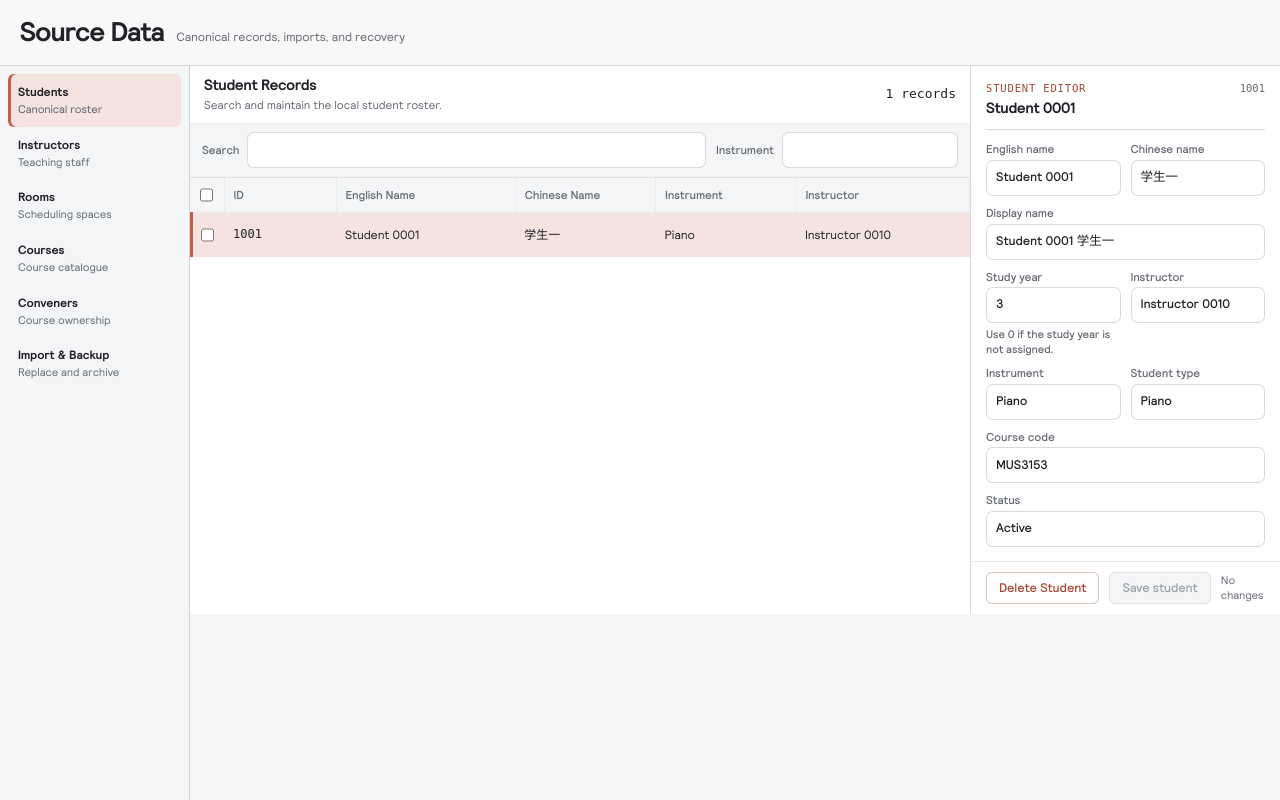
StudentHubPage › locks editor fields while a save is pending and restores the saved response
Step 1. Replace the text in the field labelled "Instructor" with "Instructor 0001" → coordinates (1198, 305), box [1130,287,1265,323]
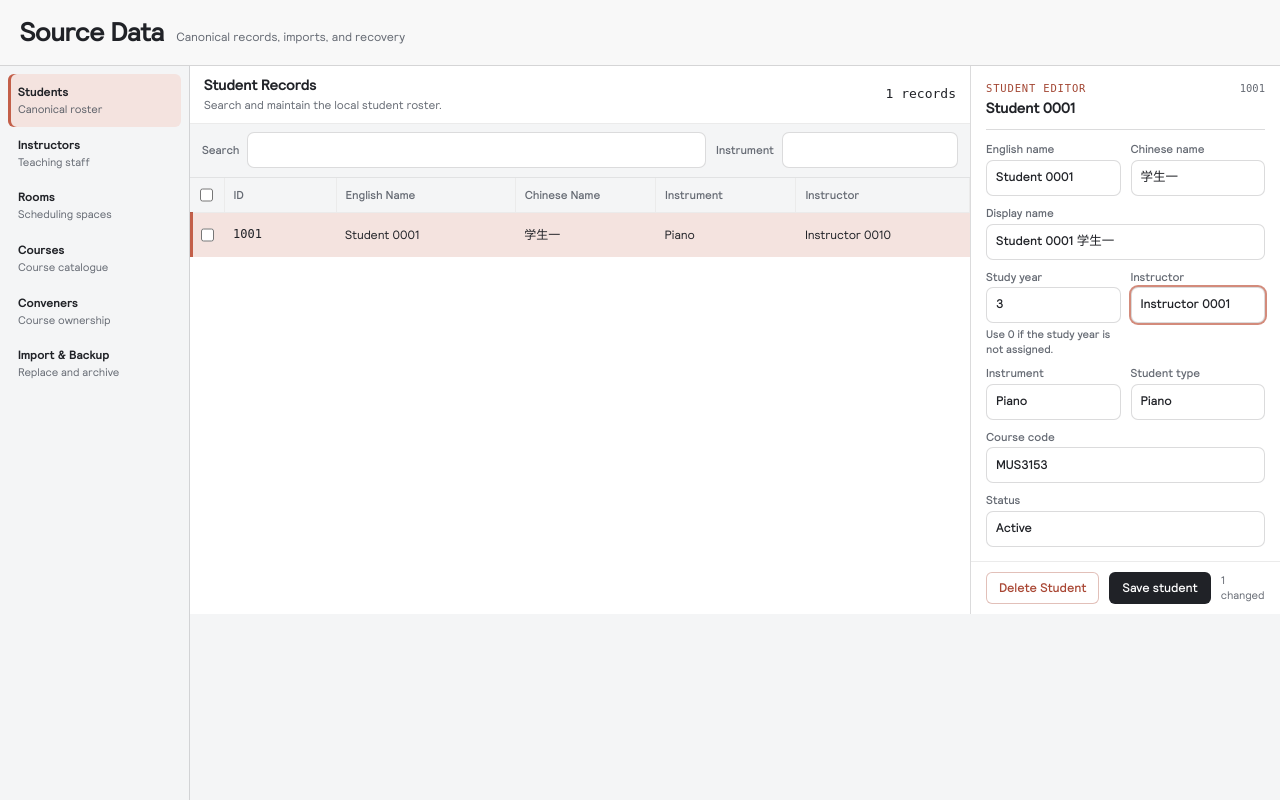
Step 2. Click the button "Save student" → coordinates (1160, 588), box [1110,572,1211,604]
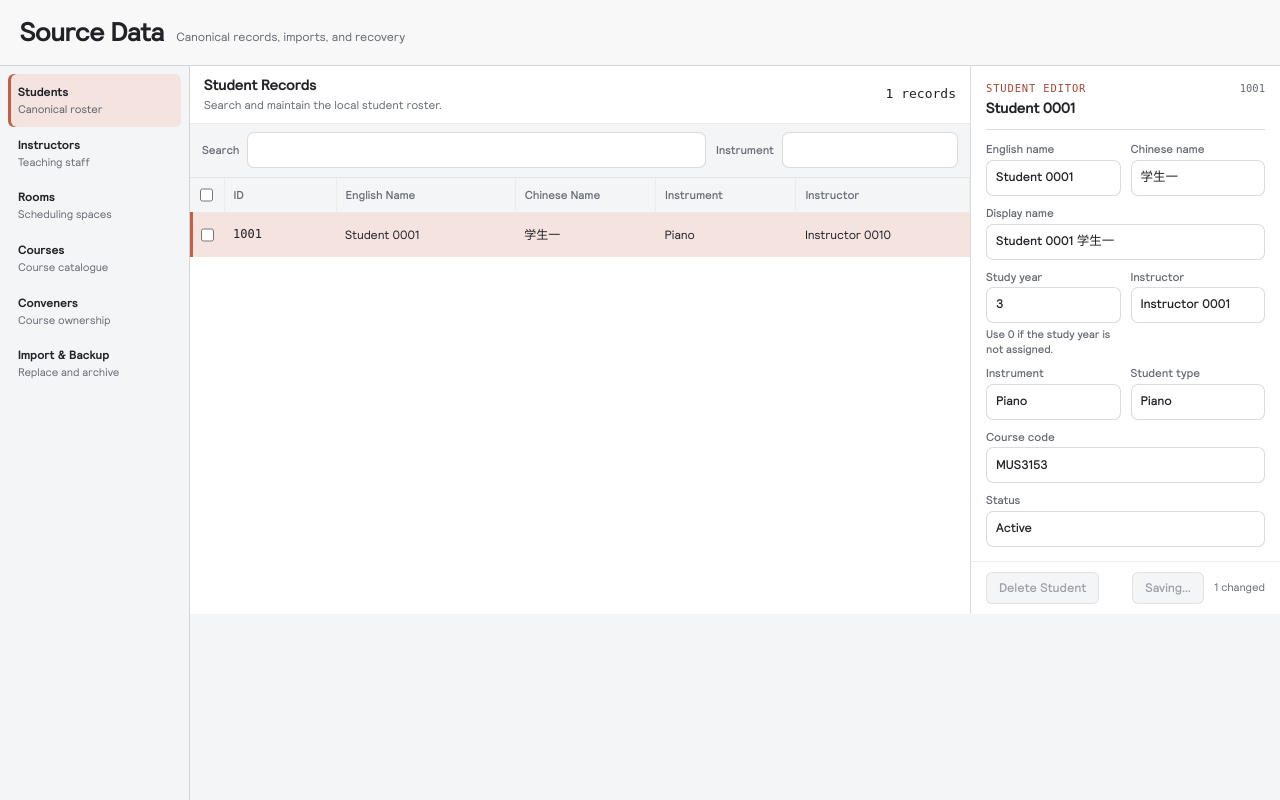
Expected: the number field labelled "Study year Use 0 if the study year is not assigned." is disabled, [986,287,1120,323]
Result: the form named "Instructor" has attribute aria-busy="true" at [986,130,1265,614]
Step 3. Type "Ignored edit" into the field labelled "Instructor" → coordinates (1198, 305), box [1130,287,1265,323]
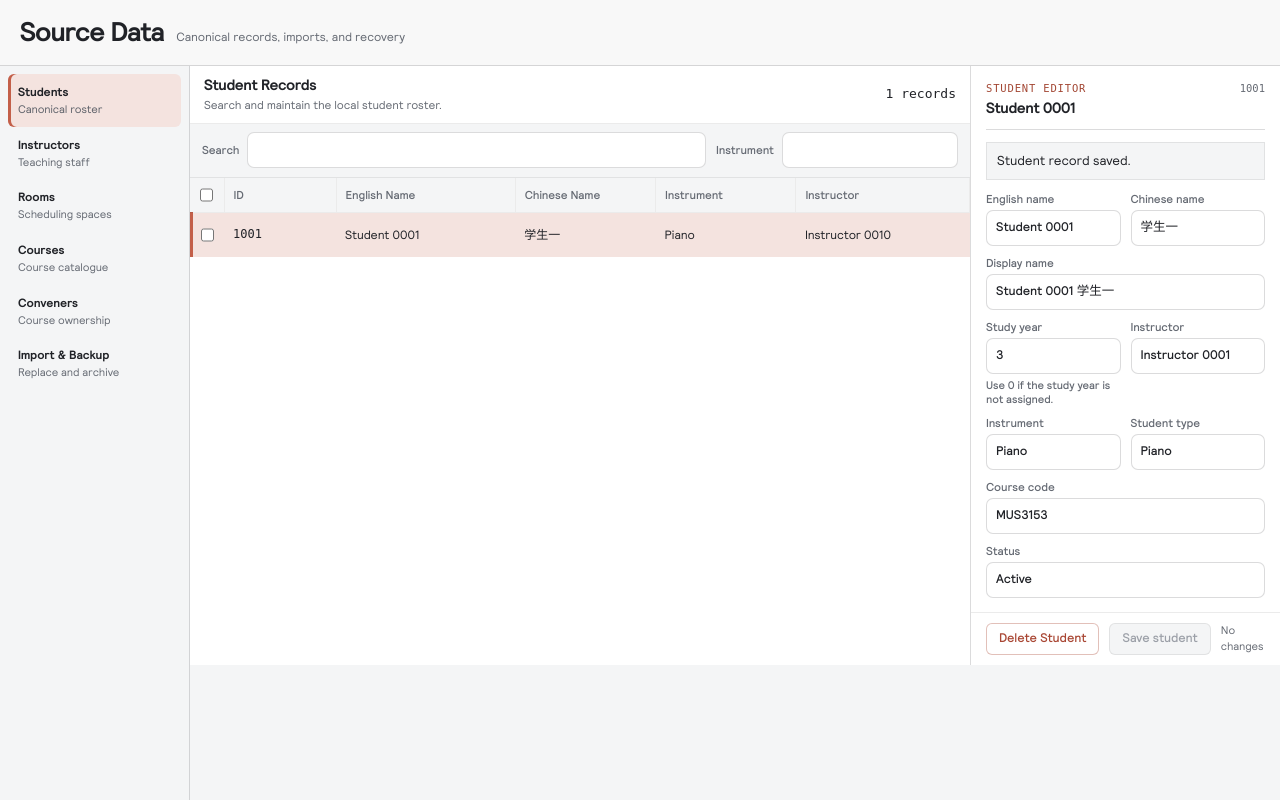
Expected: the field labelled "Instructor" is enabled, [1130,338,1265,374]
Result: the text "Student record saved." is shown at [986,142,1265,180]
